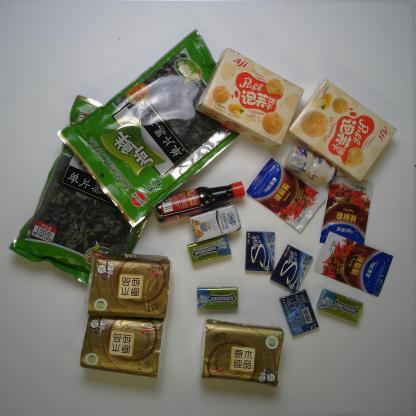Dessert: (286, 77, 398, 183), (195, 47, 304, 151)
Dried Food: (54, 29, 243, 228), (6, 92, 152, 285)
Gum: (269, 243, 314, 294), (279, 288, 320, 336), (316, 288, 365, 324), (187, 233, 233, 266), (244, 230, 277, 273), (196, 284, 239, 311)
Milk: (284, 146, 338, 185), (189, 204, 241, 243)
Seasoner: (245, 157, 327, 233), (311, 230, 395, 298), (153, 179, 247, 223), (318, 175, 374, 244)
Tissue: (85, 249, 172, 320), (199, 319, 285, 387), (80, 313, 166, 379)
